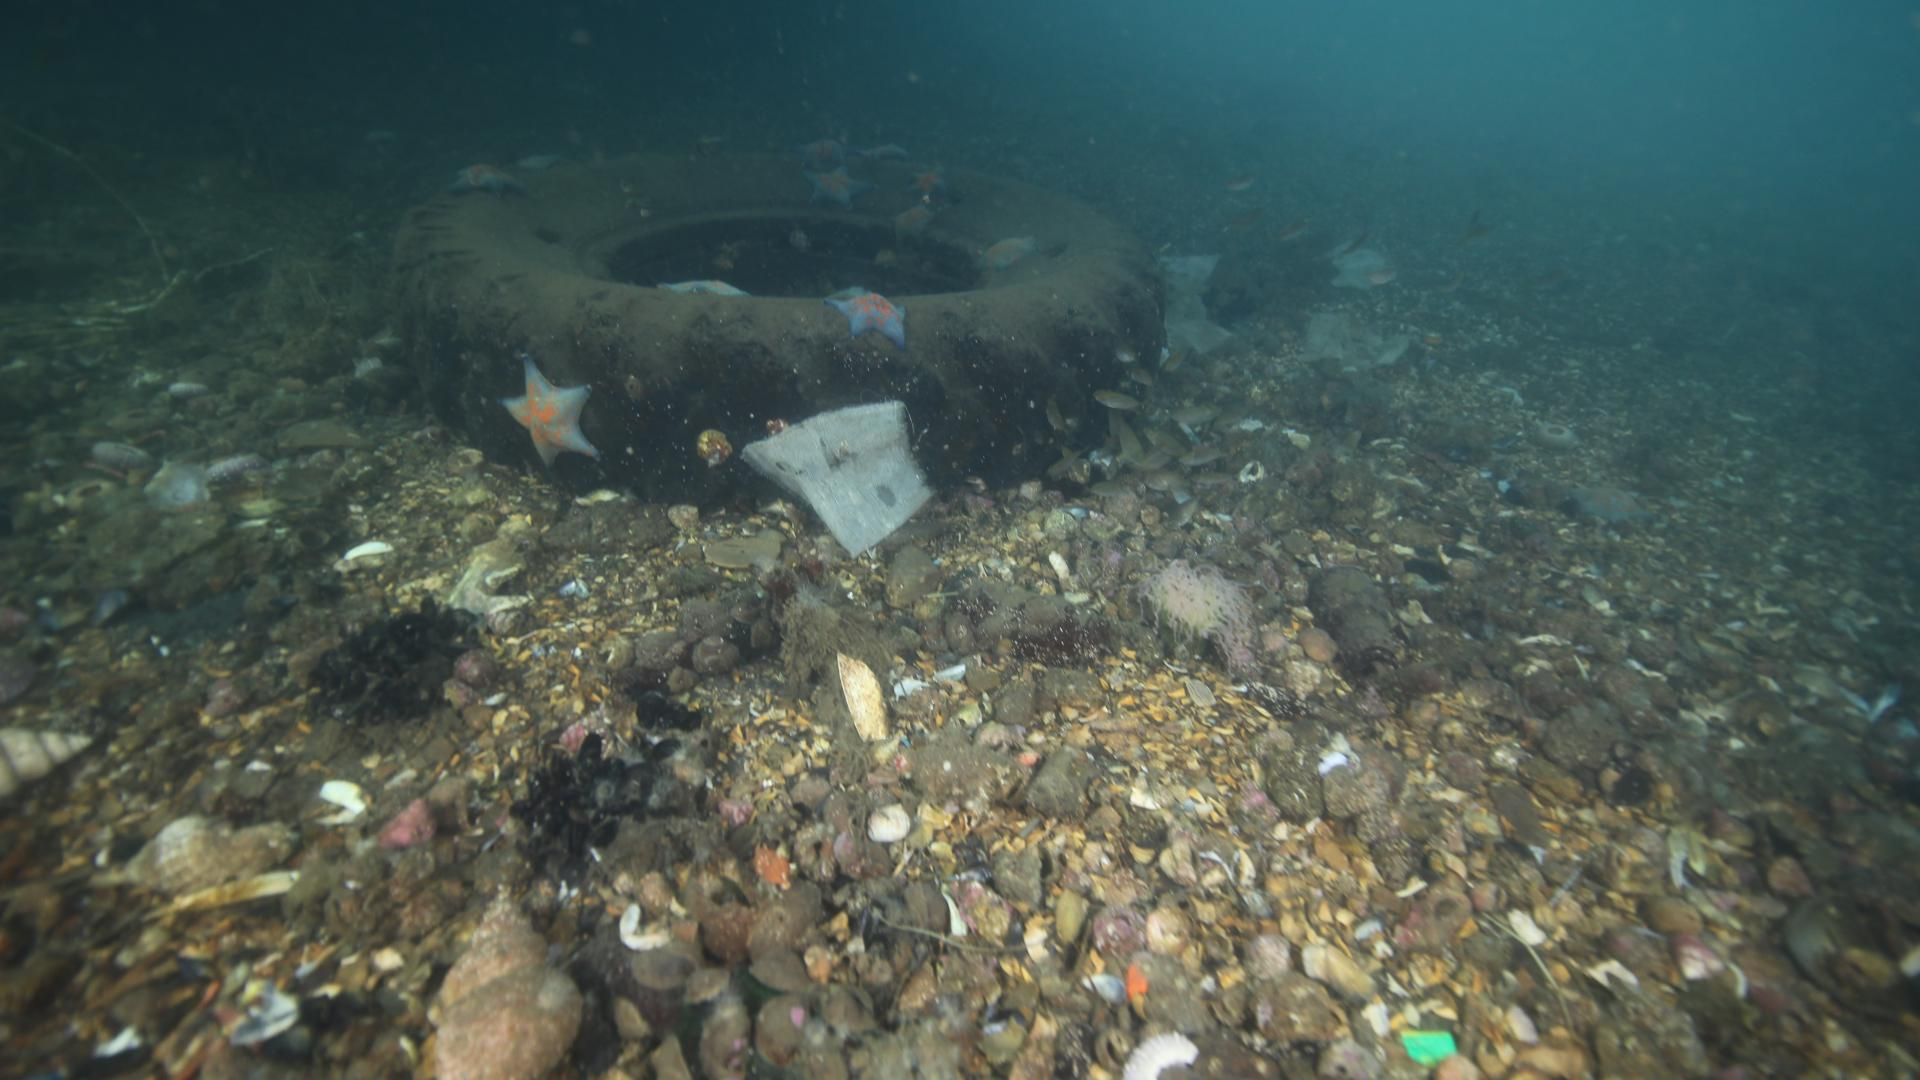tire: (394, 150, 1164, 506)
